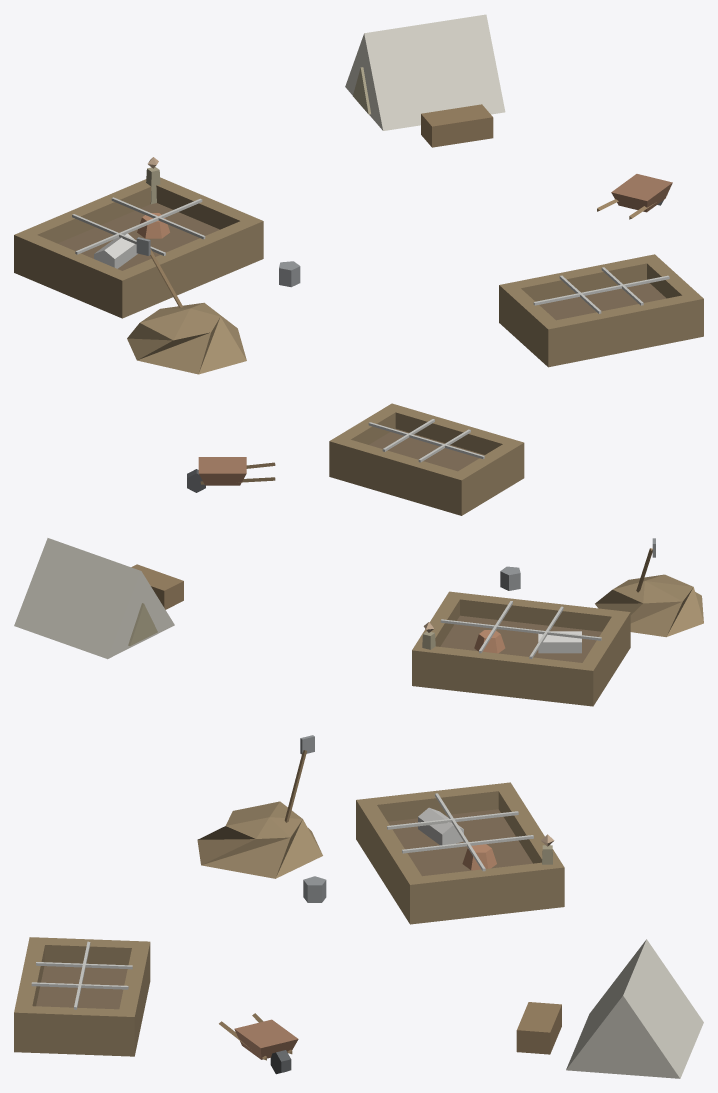
Rendered from archaeological-dig.glb.
3 views of the same model, one above another, from view 1: azimuth 30°, elevation 25°; view 2: azimuth 150°, elevation 25°; view 3: azimuth 270°, elevation 25° (orthographic). The views are drawn at different scales.
Visible parts, largest first — view 1: LOD0; view 2: LOD0; view 3: LOD0.
Boxes of the visible parts, left/top/right/bottom form: LOD0: left=14, top=14, right=703, bottom=374; LOD0: left=14, top=403, right=703, bottom=706; LOD0: left=14, top=735, right=703, bottom=1078.
Size of what is drawn, in the model's own units: 1.35 by 0.2308 by 1.42.
